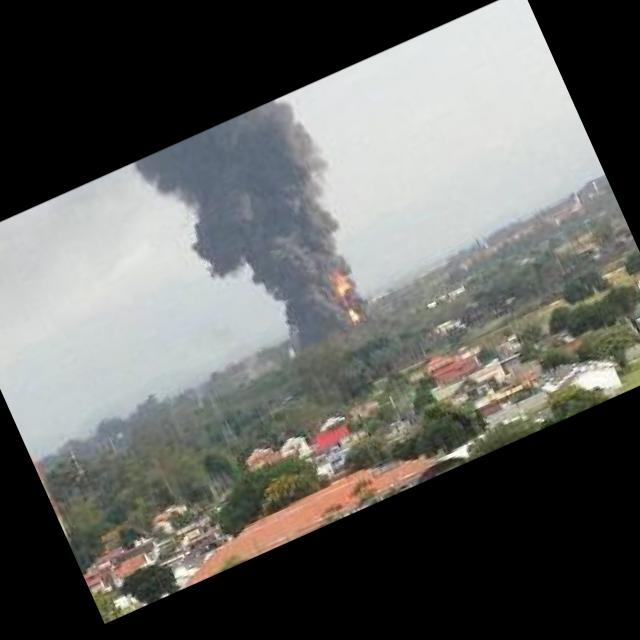fire: (318, 264, 374, 330)
smoke: (134, 90, 383, 375)
